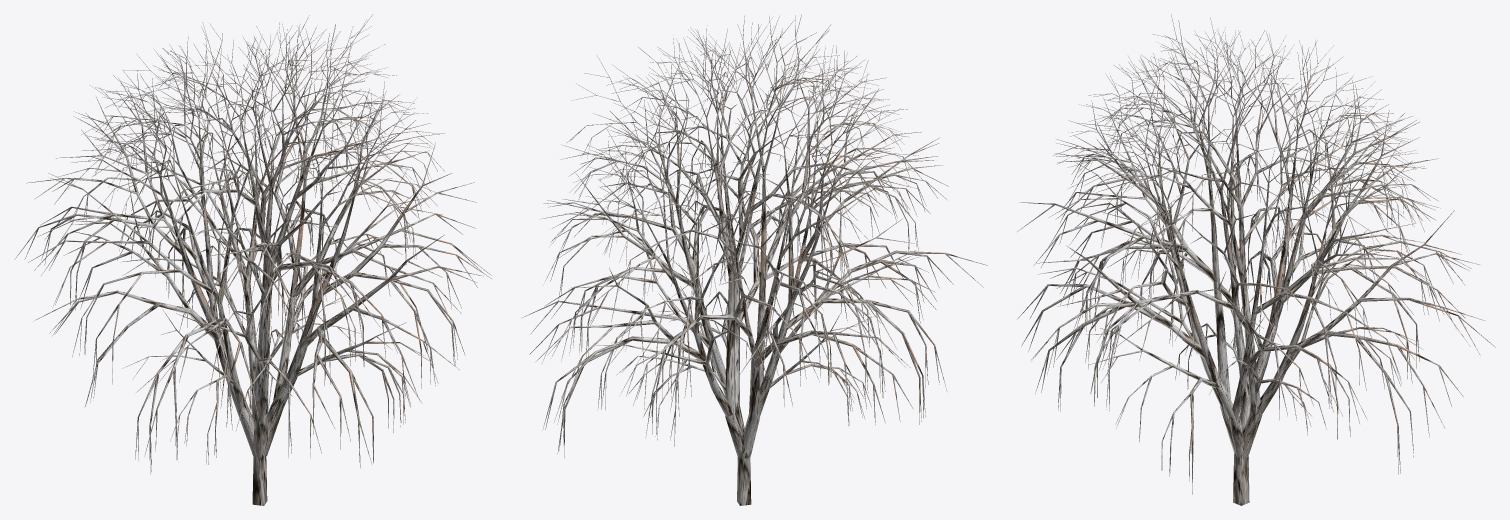
Rendered from Light Wood Tree 4.fbx.
The picture shows the model from 3 angles, left to right: view 1: azimuth 30°, elevation 25°; view 2: azimuth 150°, elevation 25°; view 3: azimuth 270°, elevation 25°; orthographic projection. The views are drawn at different scales.
Visible parts, largest first — view 1: Light Wood Tree 4; view 2: Light Wood Tree 4; view 3: Light Wood Tree 4.
Part boxes in pixels (x1=…): Light Wood Tree 4: x1=14, y1=14, x2=492, y2=505; Light Wood Tree 4: x1=521, y1=14, x2=987, y2=505; Light Wood Tree 4: x1=1017, y1=14, x2=1495, y2=505.
Size of the model in its own units: 781 by 953 by 881.
Materials: 1 (1 with a texture image).
